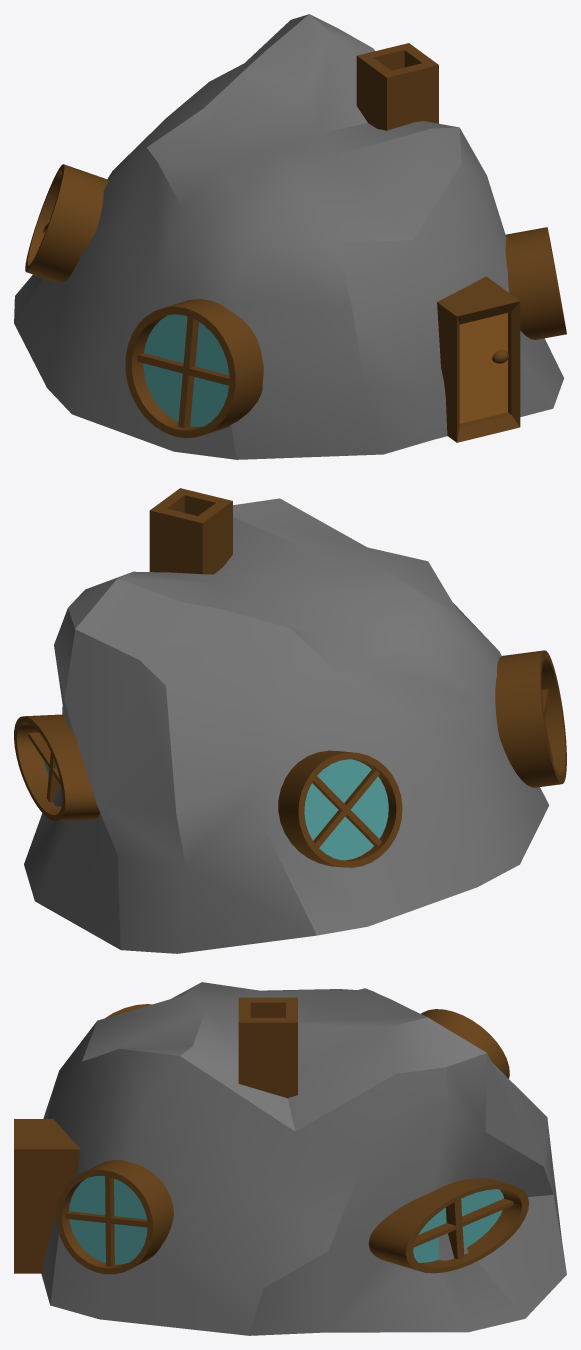
Rendered from rock_house_3.fbx.
3 views of the same model, one above another, from view 1: azimuth 30°, elevation 25°; view 2: azimuth 150°, elevation 25°; view 3: azimuth 270°, elevation 25° (orthographic). The views are drawn at different scales.
Parts seen in each view (by area): view 1: Cube.003; view 2: Cube.003; view 3: Cube.003.
Part boxes in pixels (left/top/right/bottom): Cube.003: left=14, top=14, right=566, bottom=459; Cube.003: left=14, top=488, right=566, bottom=953; Cube.003: left=14, top=982, right=566, bottom=1335.
Size of the model in its own units: 473 by 317 by 523.
